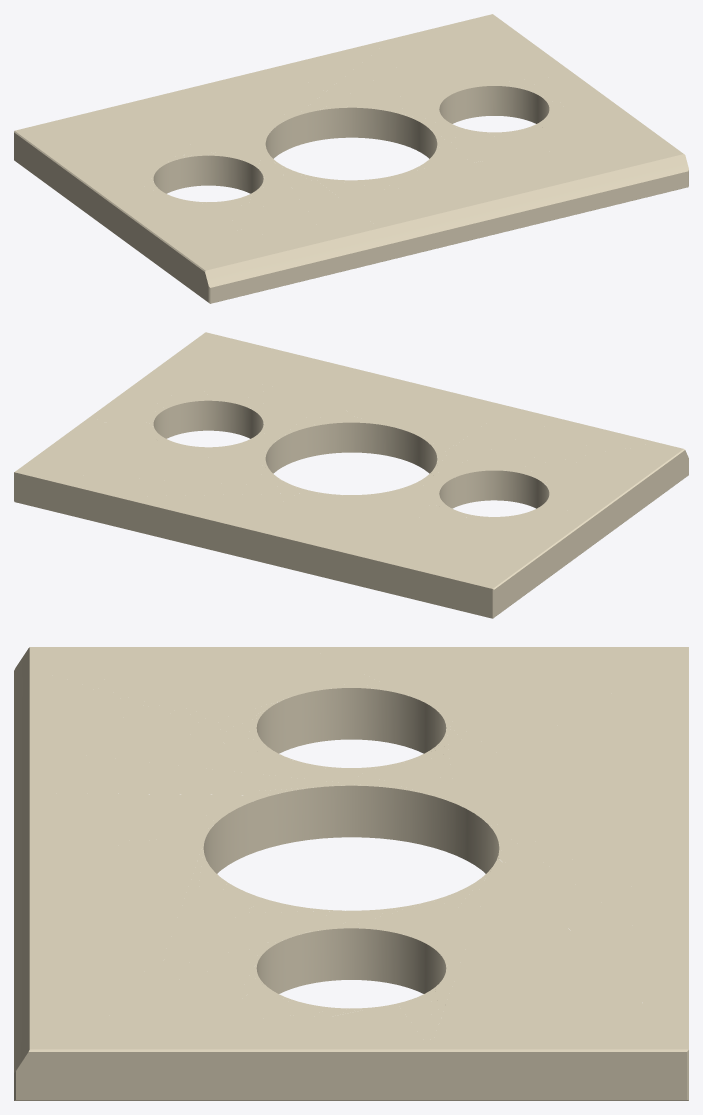
File: asinma-rammer-g80-wear-plate-no4-02.glb
The picture shows the model from 3 angles, top to bottom: view 1: azimuth 30°, elevation 25°; view 2: azimuth 150°, elevation 25°; view 3: azimuth 270°, elevation 25°; orthographic projection. The views are drawn at different scales.
Visible parts, largest first — view 1: body; view 2: body; view 3: body.
Part boxes in pixels (left/top/right/bottom): body: left=14, top=14, right=688, bottom=303; body: left=14, top=332, right=688, bottom=618; body: left=14, top=647, right=688, bottom=1100.
Bounding box in the file's own units: 0.252 × 0.015 × 0.178.
